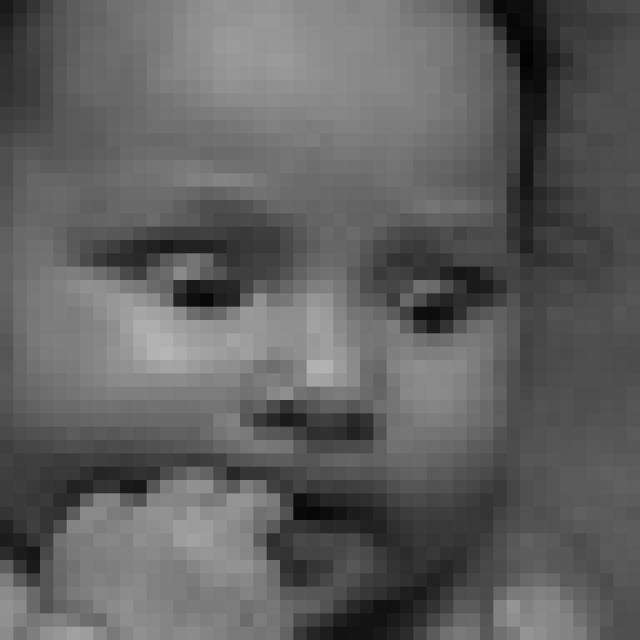fear: (76, 190, 503, 597)
